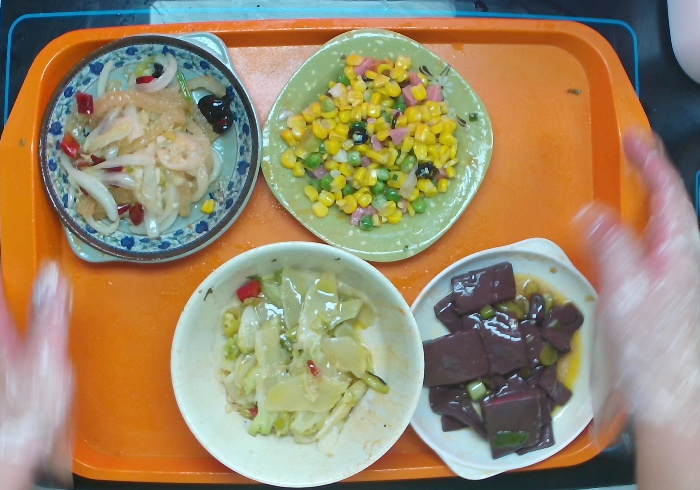NLDX-Bai_Se_Shuang_Er_Die: (400, 233, 619, 489)
NLDX-Bai_Se_Yuan_Wan: (165, 237, 427, 490)
NLDX-Lv_Hua_Fang_Die: (255, 22, 496, 265)
NLDX-Qing_Hua_Shuang_Er_Die: (33, 26, 265, 270)
